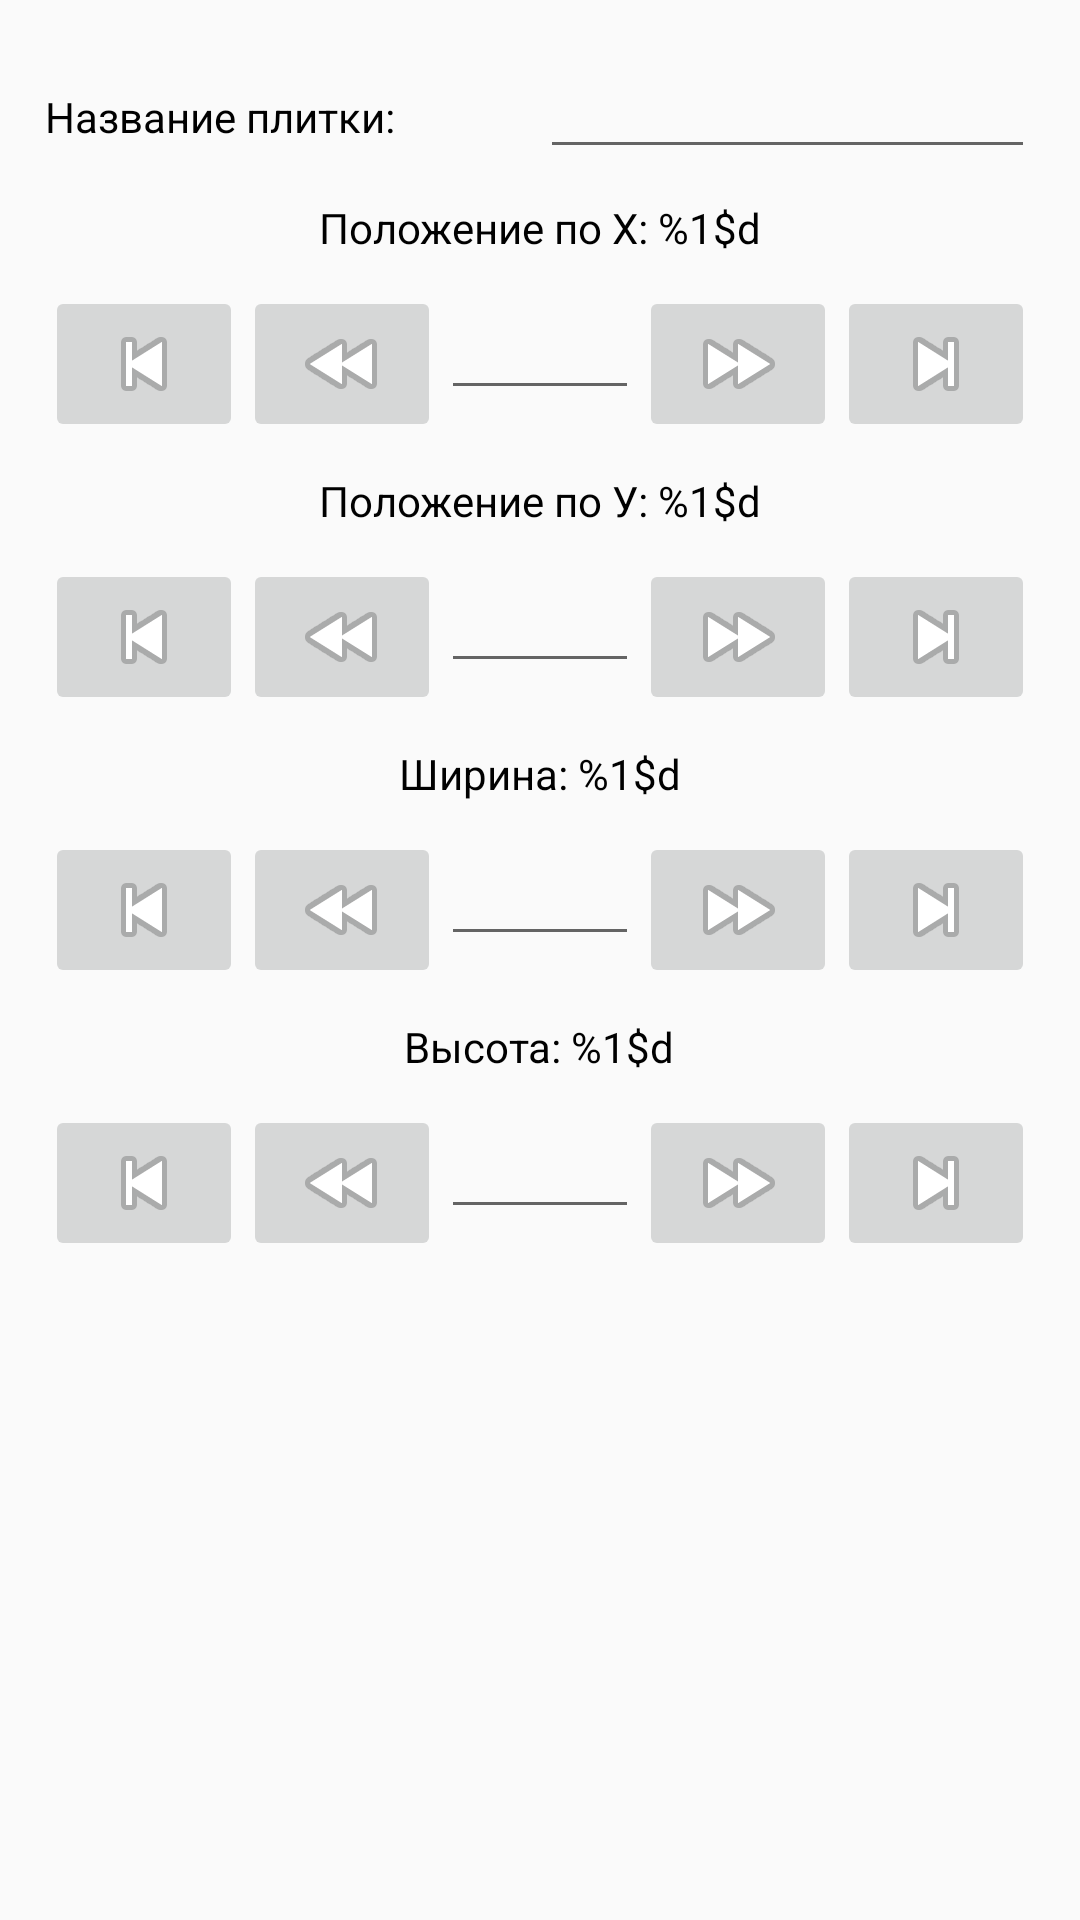

Where icons sit on this 1080 x 1920 app screen, as (x1, y1, x2, y2):
next: (849, 304, 1023, 424), (849, 577, 1023, 697), (849, 850, 1023, 970), (849, 1123, 1023, 1243)
previous: (57, 304, 231, 424), (57, 577, 231, 697), (57, 850, 231, 970), (57, 1123, 231, 1243)
rew: (255, 304, 429, 424), (255, 577, 429, 697), (255, 850, 429, 970), (255, 1123, 429, 1243)
